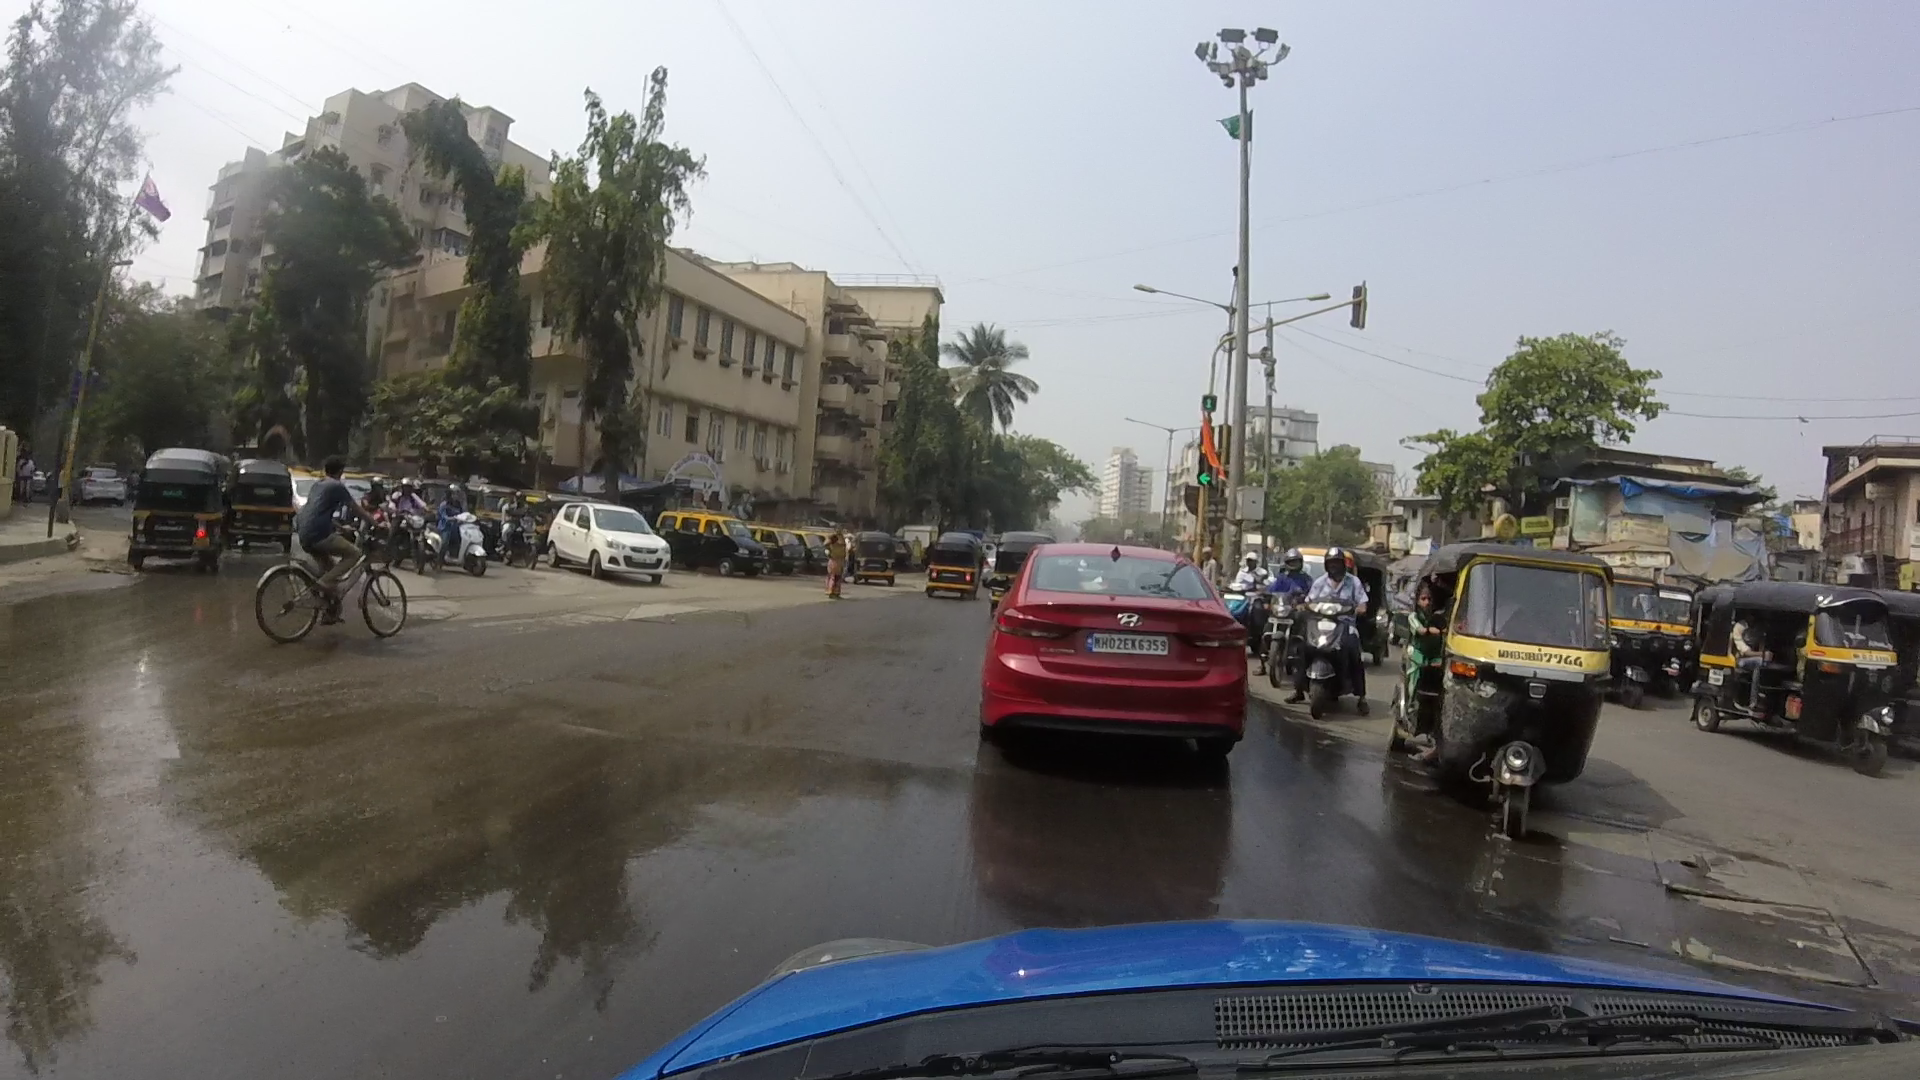bike/scooter: (1294, 554, 1361, 723)
car: (993, 535, 1249, 752), (555, 501, 666, 583)
rickshaw: (1387, 542, 1596, 804), (1698, 578, 1902, 766), (131, 442, 237, 572), (1602, 572, 1663, 707), (924, 535, 975, 595)
